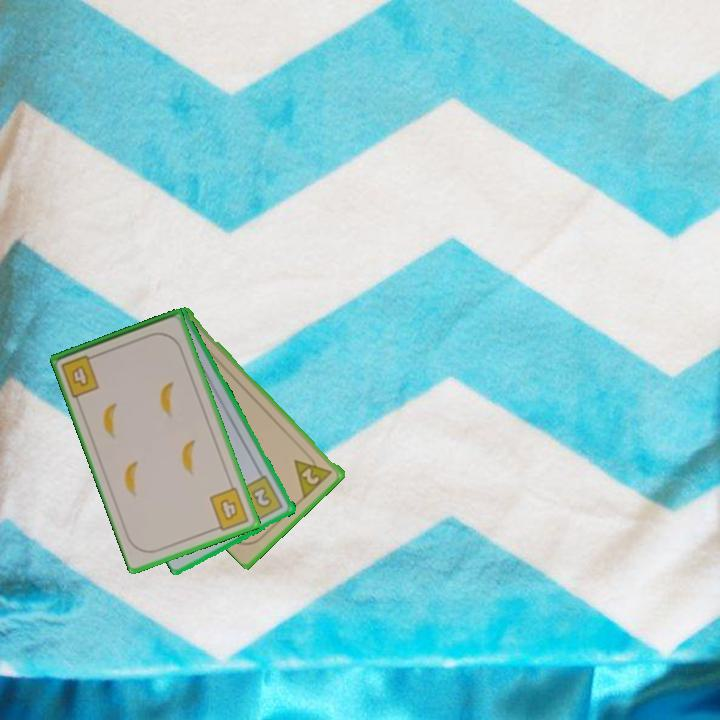2b: (238, 472, 286, 524)
2p: (291, 448, 336, 500)
4b: (206, 484, 252, 534), (58, 351, 102, 400)
